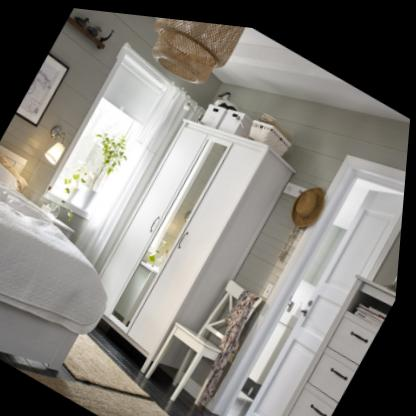Bed: (0, 140, 155, 396)
Chair: (142, 251, 273, 416)
